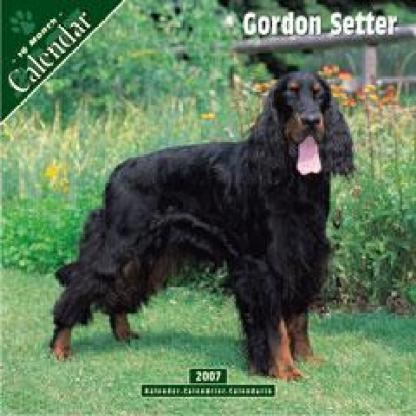Gordon_setter: (45, 68, 357, 380)
